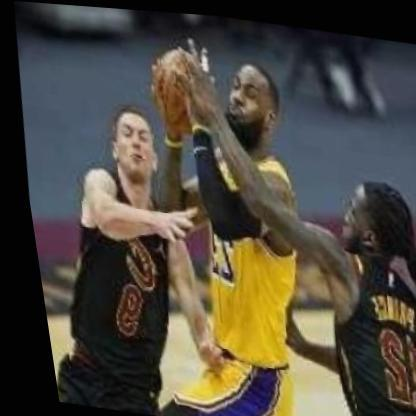basketball: (142, 37, 218, 141)
